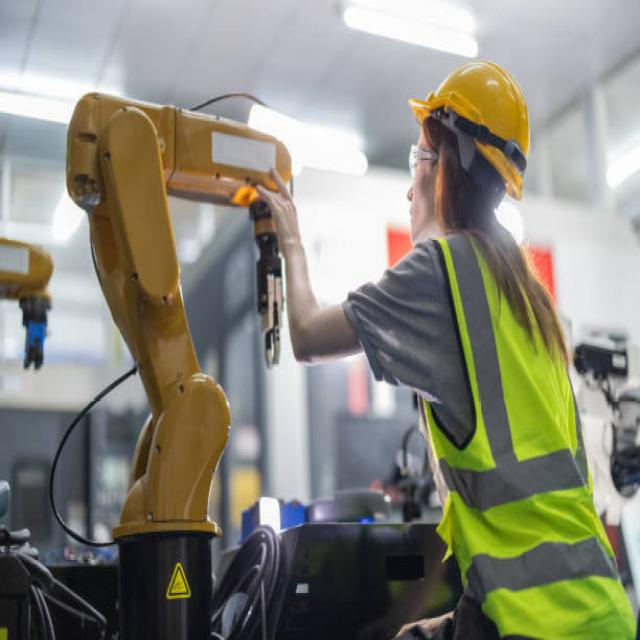Robotic-arm: (64, 77, 304, 554), (2, 228, 59, 367)
